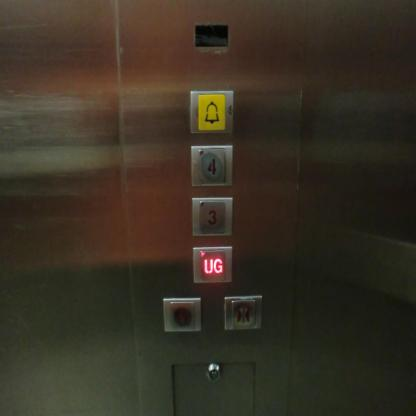3: (189, 194, 236, 238)
4: (188, 142, 235, 191)
UG: (191, 244, 235, 286)
alarm: (188, 87, 235, 136)
close: (222, 294, 264, 332)
open: (161, 296, 204, 334)
